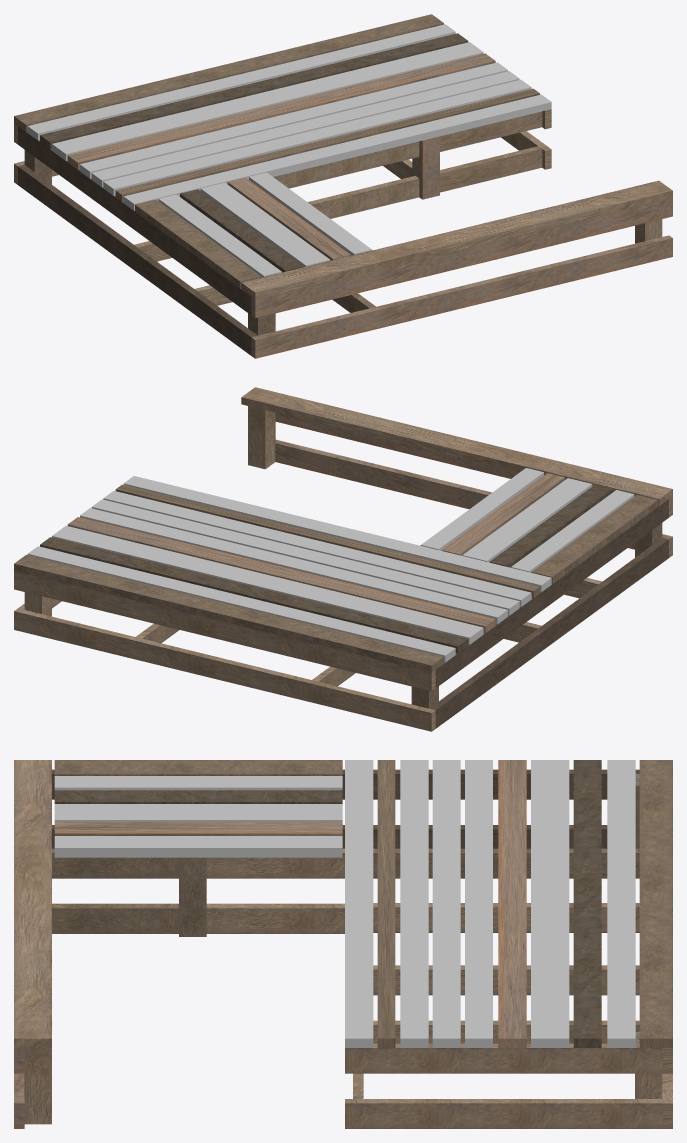
The model's file is WoodFloorPeiceD.fbx.
3 renders of one model, top to bottom at view 1: azimuth 30°, elevation 25°; view 2: azimuth 150°, elevation 25°; view 3: azimuth 270°, elevation 25°, orthographic. The views are drawn at different scales.
Parts seen in each view (by area): view 1: WoodFloorPeiceD; view 2: WoodFloorPeiceD; view 3: WoodFloorPeiceD.
Part boxes in pixels (box(x1,y1,x2,y2)): WoodFloorPeiceD: box(14, 14, 672, 358); WoodFloorPeiceD: box(14, 387, 672, 731); WoodFloorPeiceD: box(14, 760, 672, 1128).
Size of the model in its own units: 374 by 56.6 by 374.
